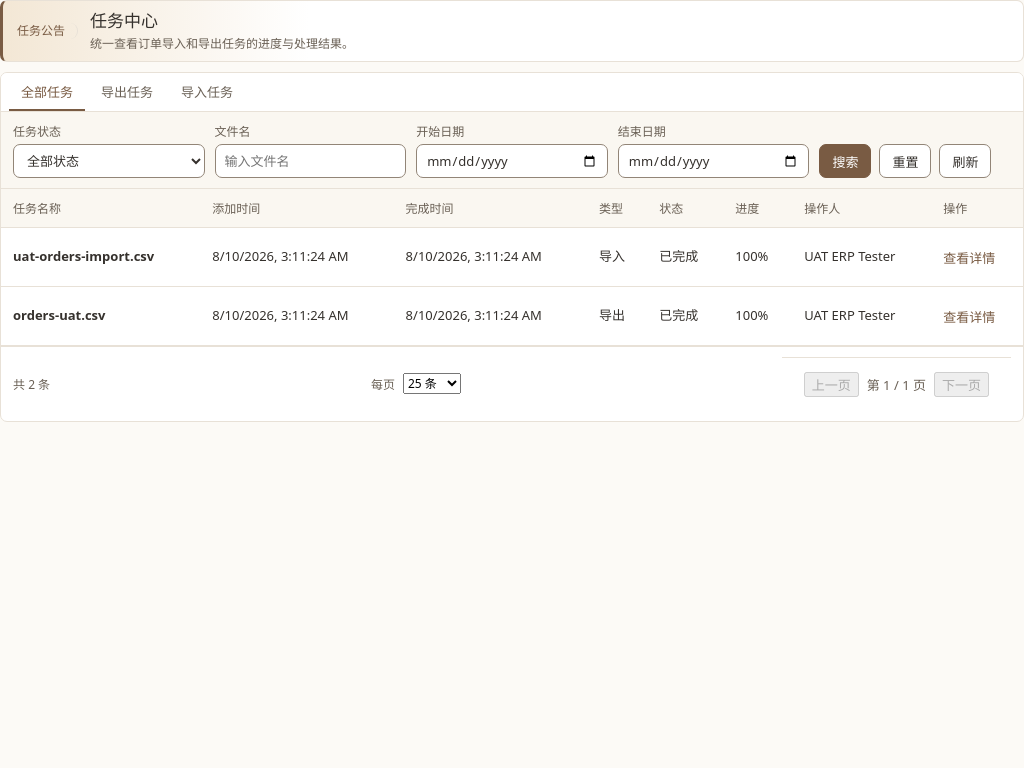
Test case: SettingsTaskCenterPage › lists mixed real tasks and shows a closable detail dialog
Check: the text "uat-orders-import.csv" is shown, box [13, 247, 154, 265]
Click the button "查看详情" in the row of "orders-uat.csv": (969, 318) [943, 300, 995, 336]
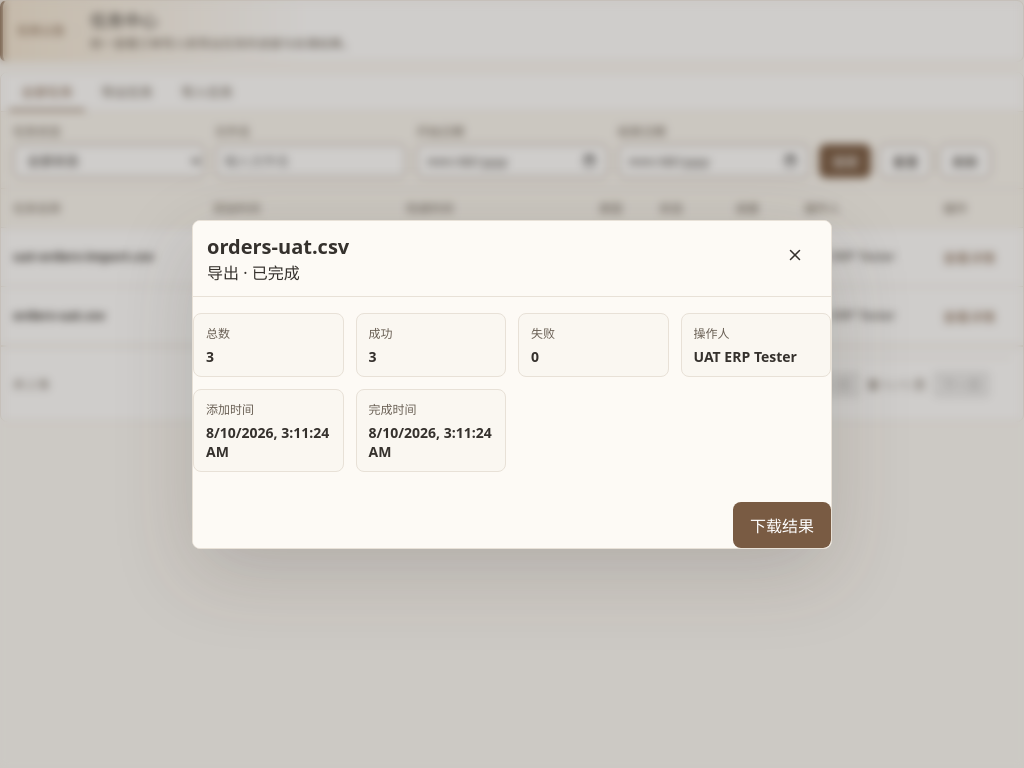
Check: the text "3" is shown 2 times, box [206, 346, 214, 366]; [368, 346, 376, 366]
Check: the button "下载结果" is shown, box [733, 502, 831, 548]
Click the button named "关闭任务详情": (795, 254) [773, 232, 817, 276]
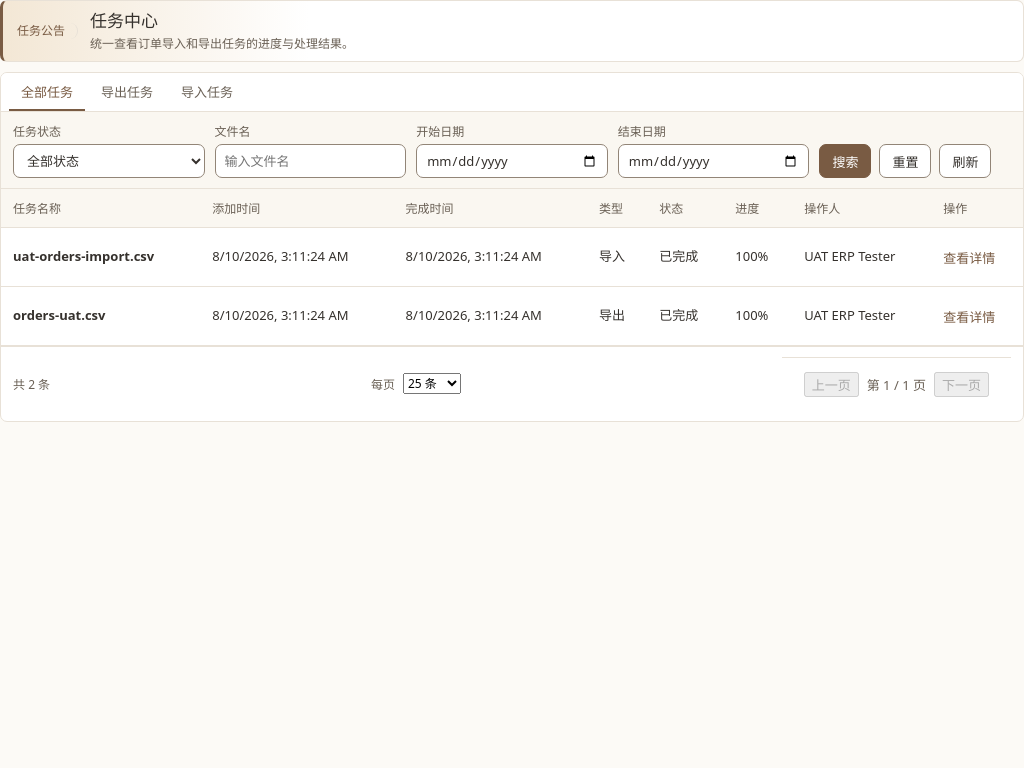
Check: the dialog is gone
